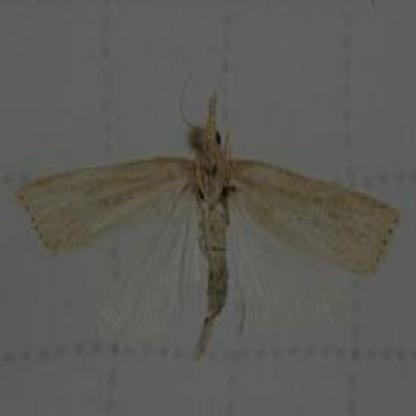stem-borer: (14, 90, 403, 346)
